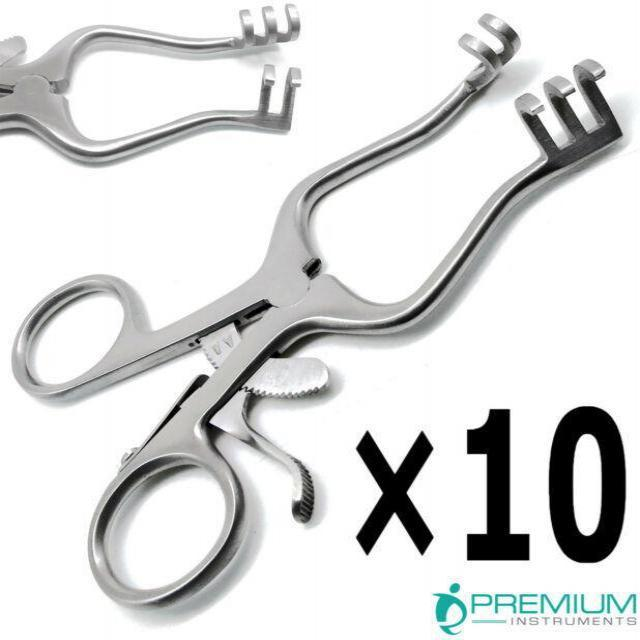Weitlaner: (8, 12, 626, 614), (0, 4, 306, 171)
